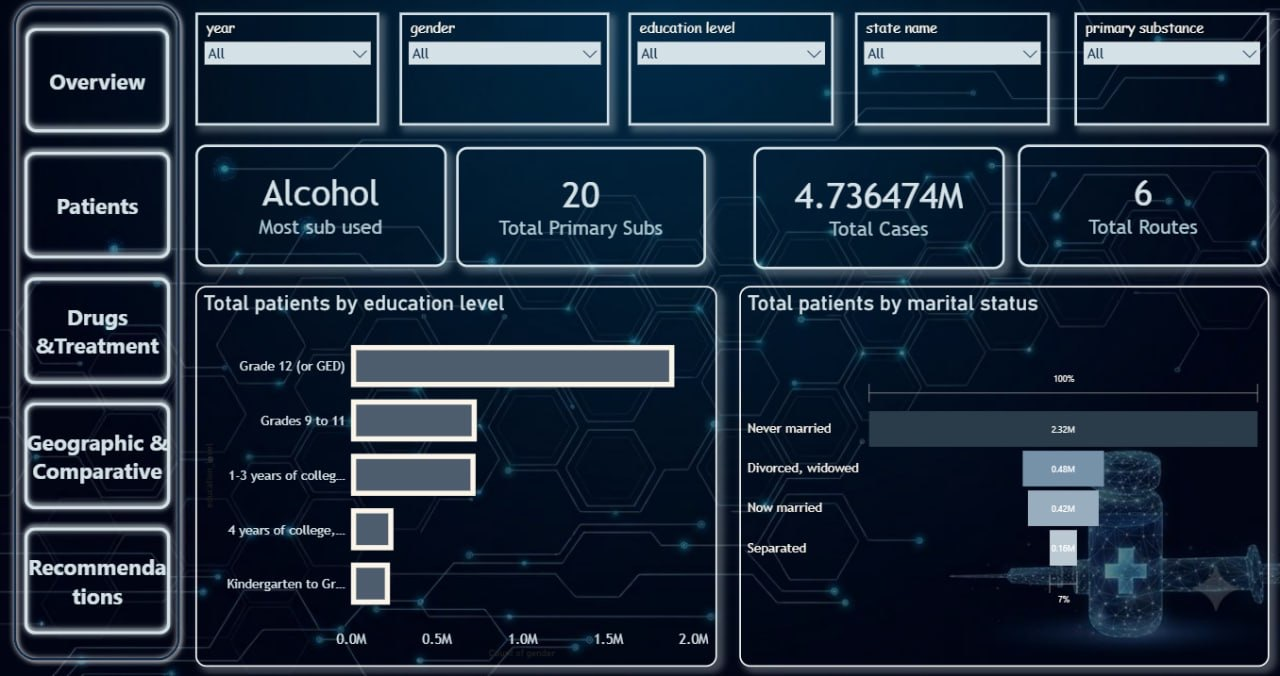

The page's visual inventory and layout, read from the dashboard file:
{"tool":"powerbi","page":{"name":" Overview","canvas":[2000,1050],"ordinal":0},"visuals":[{"type":"shape","box":[23.6,0,274.3,1032],"z":0},{"type":"cardVisual","fields":{"Data":["CountNonNull(teds_a_fact_raw.sex)"]},"box":[1171.9,230.7,387,189],"z":1000},{"type":"cardVisual","fields":{"Data":["Min(teds_a_decoded_view.primary_substance)"]},"box":[312.5,227.1,387,189],"z":2000},{"type":"clusteredBarChart","title":"Total patients by education level","fields":{"Category":["teds_a_decoded_view.education_level"],"Y":["CountNonNull(teds_a_decoded_view.gender)"]},"box":[313.3,444.7,803,587.2],"z":3000},{"type":"pageNavigator","box":[40,36.3,243.5,957.5],"z":4000},{"type":"slicer","fields":{"Values":["teds_a_decoded_view.admission_year"]},"box":[312.5,23.6,283.4,174.4],"z":5000},{"type":"slicer","fields":{"Values":["teds_a_decoded_view.gender"]},"box":[626.8,23.6,323.4,174.4],"z":6000},{"type":"slicer","fields":{"Values":["teds_a_decoded_view.education_level"]},"box":[979.3,23.6,316.1,174.4],"z":7000},{"type":"slicer","fields":{"Values":["teds_a_decoded_view.state_name"]},"box":[1328.1,23.6,299.8,174.4],"z":8000},{"type":"slicer","fields":{"Values":["teds_a_decoded_view.primary_substance"]},"box":[1666.1,23.6,299.8,174.4],"z":9000},{"type":"cardVisual","fields":{"Data":["Count(teds_a_decoded_view.primary_route)"]},"box":[1578.9,227.1,387,189],"z":10000},{"type":"funnel","title":" Total patients by marital status","fields":{"Category":["teds_a_decoded_view.marital_status"],"Y":["CountNonNull(teds_a_decoded_view.gender)"]},"box":[1150.1,444.7,816.1,587.2],"z":11000},{"type":"cardVisual","fields":{"Data":["Count(teds_a_decoded_view.primary_substance)"]},"box":[714.8,230.8,384.6,185.7],"z":12000}]}

Visuals, with their boxes in screenshot pixels (x1, y1, x2, y2), scaled from the page's 2000x1050 canvas onto the 1280x676 screenshot:
shape: bbox(15, 0, 191, 664)
cardVisual - CountNonNull(teds_a_fact_raw.sex): bbox(750, 149, 998, 270)
cardVisual - Min(teds_a_decoded_view.primary_substance): bbox(200, 146, 448, 268)
"Total patients by education level" clusteredBarChart: bbox(201, 286, 714, 664)
pageNavigator: bbox(26, 23, 181, 640)
slicer - teds_a_decoded_view.admission_year: bbox(200, 15, 381, 127)
slicer - teds_a_decoded_view.gender: bbox(401, 15, 608, 127)
slicer - teds_a_decoded_view.education_level: bbox(627, 15, 829, 127)
slicer - teds_a_decoded_view.state_name: bbox(850, 15, 1042, 127)
slicer - teds_a_decoded_view.primary_substance: bbox(1066, 15, 1258, 127)
cardVisual - Count(teds_a_decoded_view.primary_route): bbox(1010, 146, 1258, 268)
" Total patients by marital status" funnel: bbox(736, 286, 1258, 664)
cardVisual - Count(teds_a_decoded_view.primary_substance): bbox(457, 149, 704, 268)
